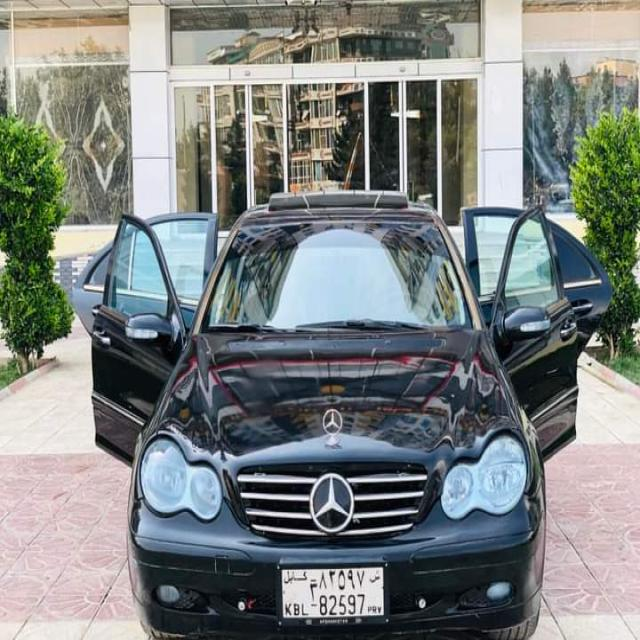Plate: (282, 568, 384, 617)
